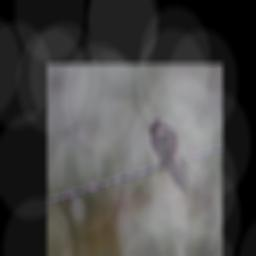Swallow: (147, 111, 197, 200)
